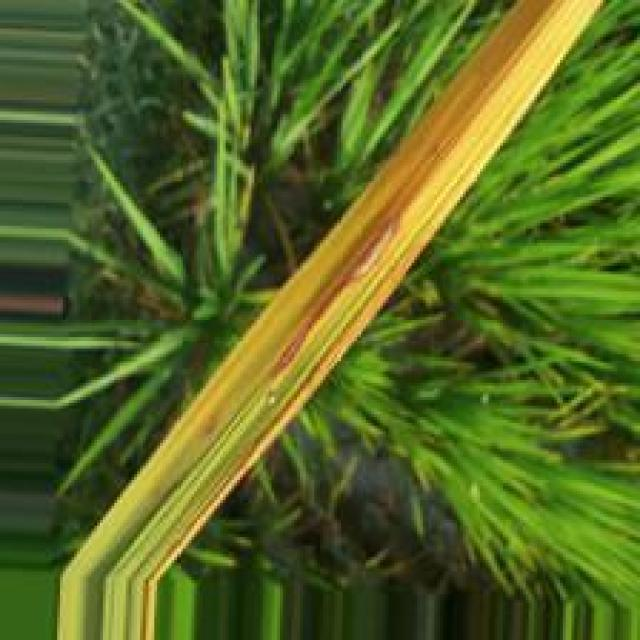Leaf_Blast: (285, 184, 411, 372)
